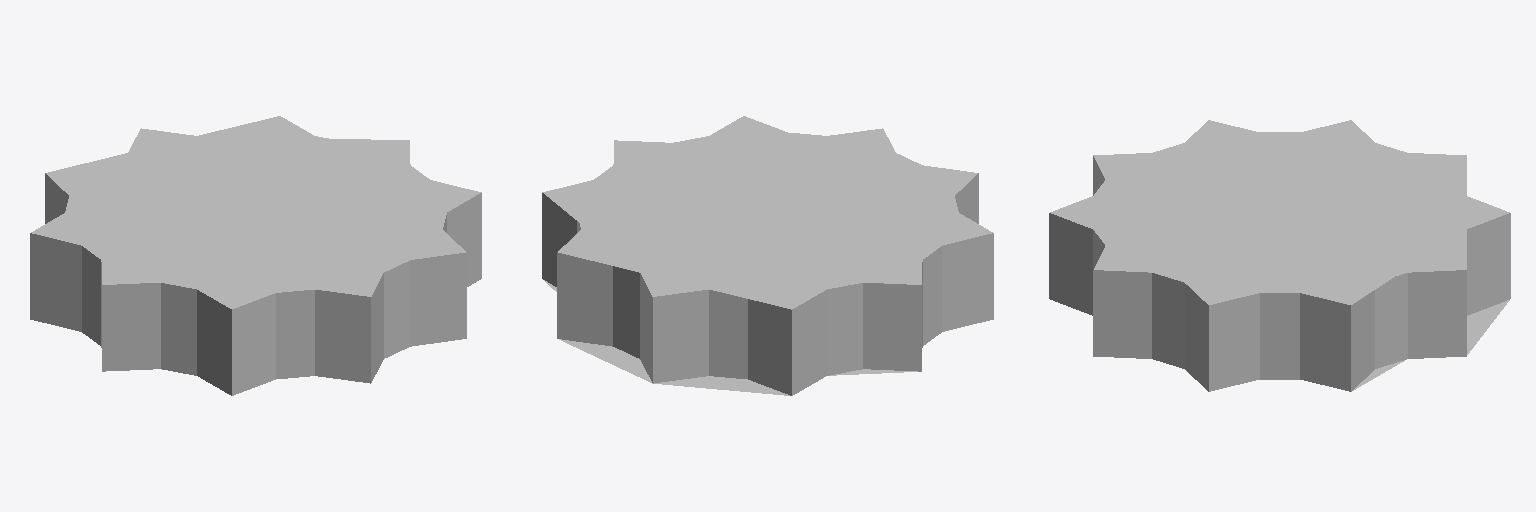
File: sun.obj
3 renders of one model, left to right at view 1: azimuth 30°, elevation 25°; view 2: azimuth 150°, elevation 25°; view 3: azimuth 270°, elevation 25°, orthographic.
Visible parts, largest first — view 1: Sun; view 2: Sun; view 3: Sun.
Boxes of the visible parts, box(x1,y1,x2,y2) form: Sun: box(30, 116, 481, 395); Sun: box(542, 116, 993, 395); Sun: box(1049, 120, 1510, 391).
Size of the model in its own units: 4.59 by 1 by 4.83.